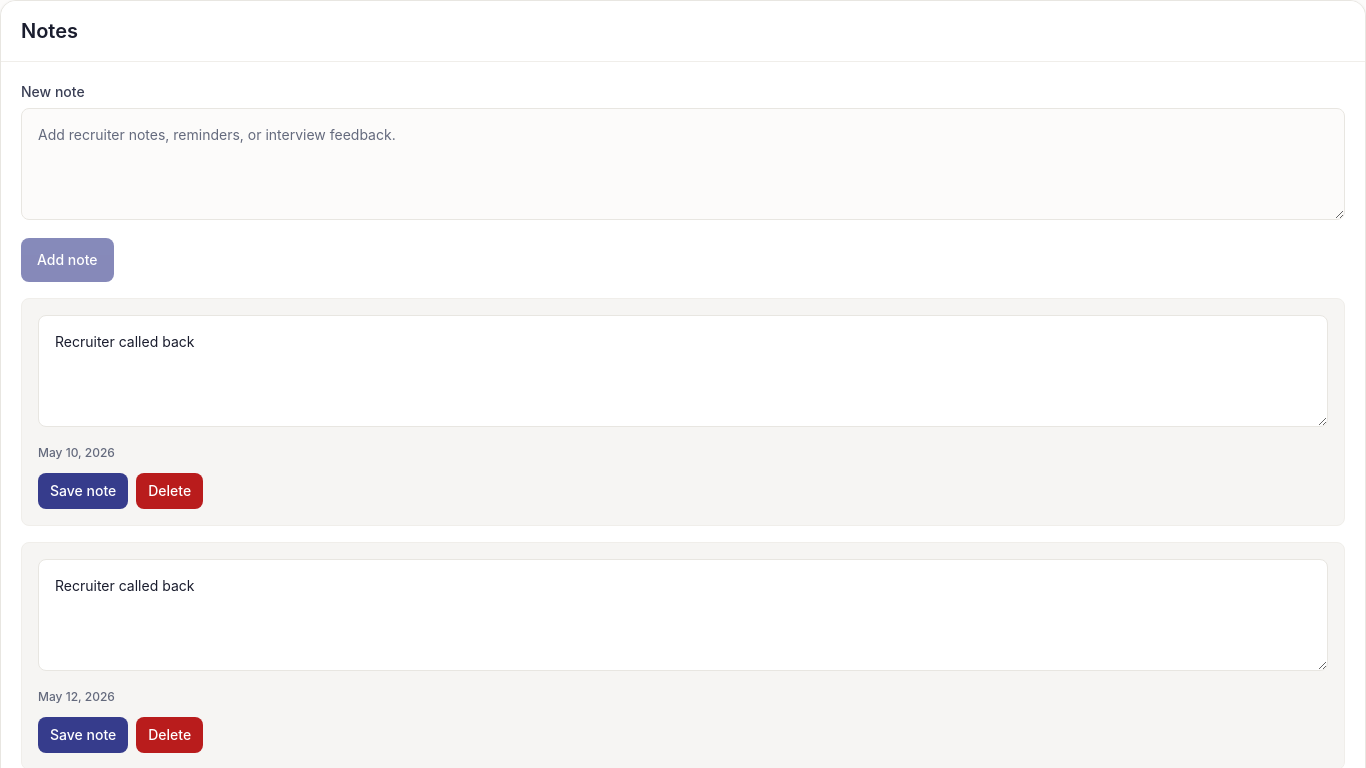
it: JobDetailNotesPanel › disables every note control while a write is in flight, marking only the busy one aria-busy
What coordinates should you click on to do the following:
click the button with aria-label "Delete note from May 10, 2026"
I would click on:
 (170, 491)
Its box is [136,473,203,509].
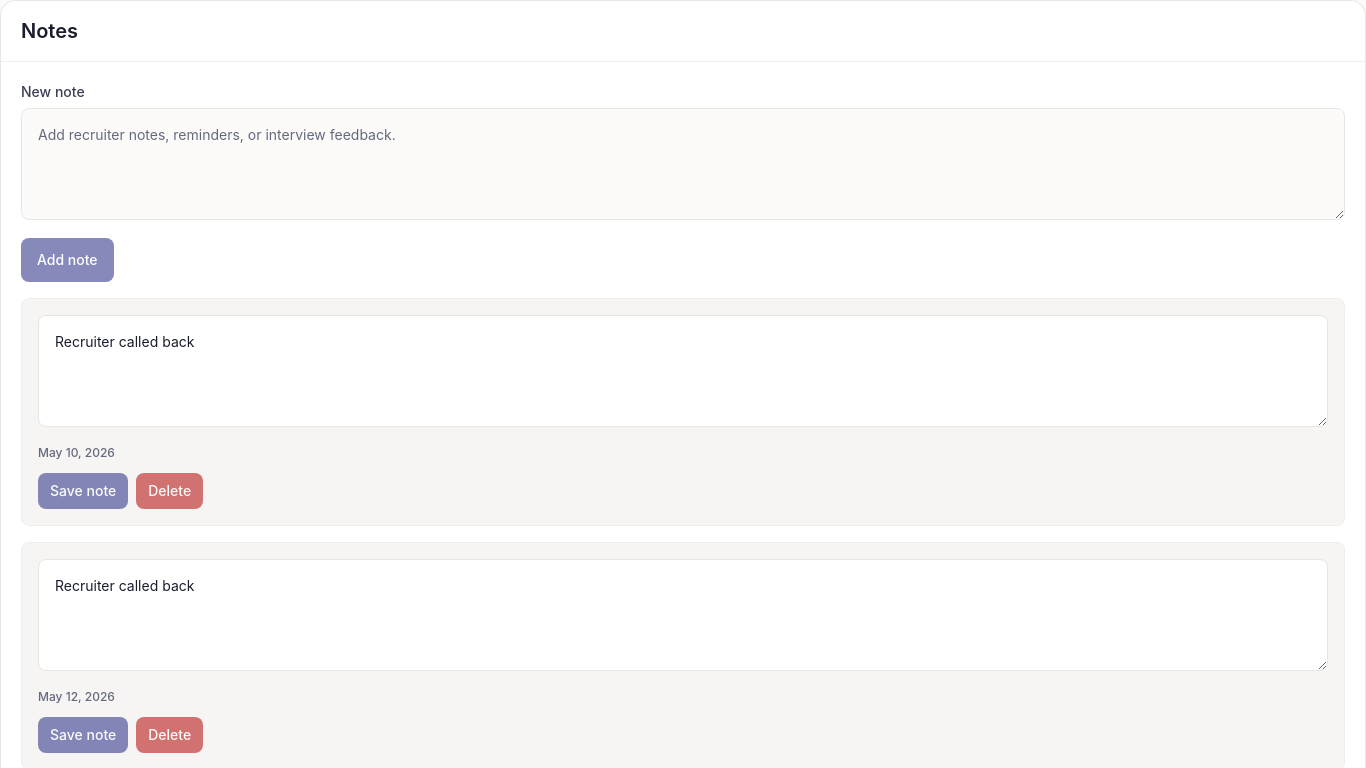
Now the button with aria-label "Save note from May 10, 2026" is disabled, box [38,473,128,509]
Now the button with aria-label "Delete note from May 10, 2026" is disabled, box [136,473,203,509]
Now the button with aria-label "Save note from May 12, 2026" is disabled, box [38,717,128,753]
